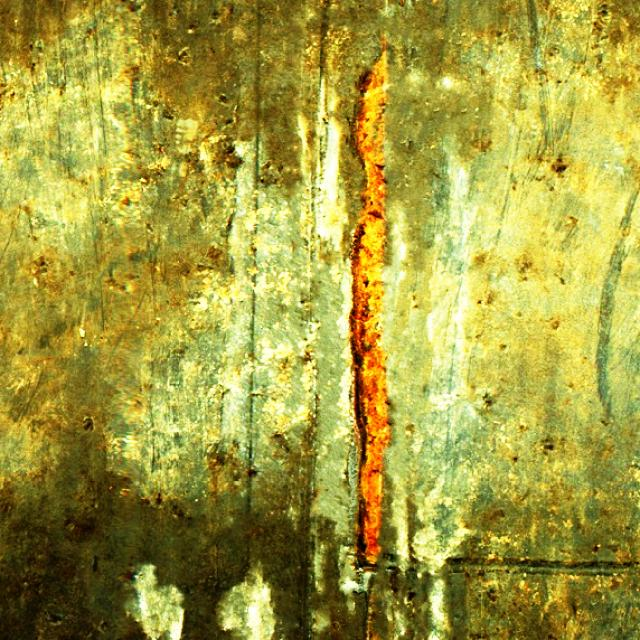Corrosion: (349, 51, 391, 570)
